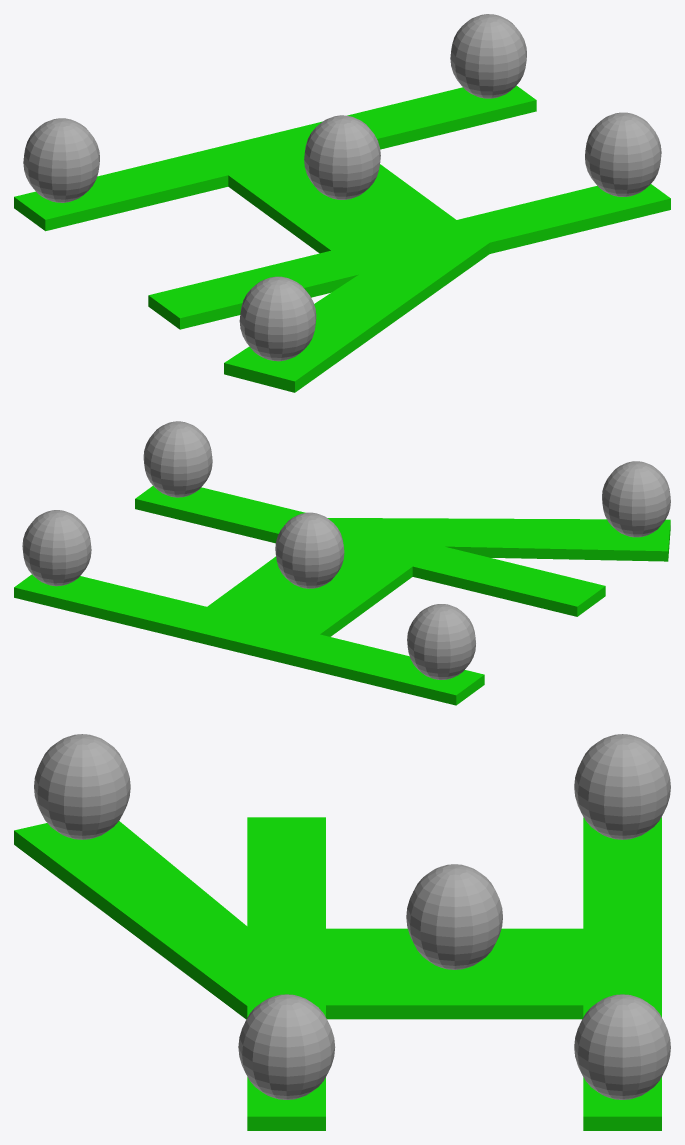
Rendered from forearm_cluster_left.fbx.
3 views of the same model, one above another, from view 1: azimuth 30°, elevation 25°; view 2: azimuth 150°, elevation 25°; view 3: azimuth 270°, elevation 25° (orthographic). The views are drawn at different scales.
Visible parts, largest first — view 1: Plane.006, Sphere.017, Sphere.016, Sphere.013, Sphere.014, Sphere.015; view 2: Plane.006, Sphere.017, Sphere.015, Sphere.016, Sphere.013, Sphere.014; view 3: Plane.006, Sphere.014, Sphere.013, Sphere.015, Sphere.017, Sphere.016.
Boxes of the visible parts, x1,y1,x2,y2 form: Plane.006: (14,85,670,392); Sphere.017: (304,115,380,199); Sphere.016: (585,112,661,196); Sphere.013: (239,276,316,361); Sphere.014: (23,118,99,202); Sphere.015: (450,14,526,98); Plane.006: (14,486,670,705); Sphere.017: (275,512,344,588); Sphere.015: (22,510,91,586); Sphere.016: (143,421,212,497); Sphere.013: (602,461,670,537); Sphere.014: (407,604,475,679); Plane.006: (14,817,661,1130); Sphere.014: (574,734,670,839); Sphere.013: (34,734,130,839); Sphere.015: (574,994,670,1099); Sphere.017: (406,864,502,969); Sphere.016: (238,994,335,1099).
Size of the model in its own units: 9.26 by 1.58 by 8.35.
